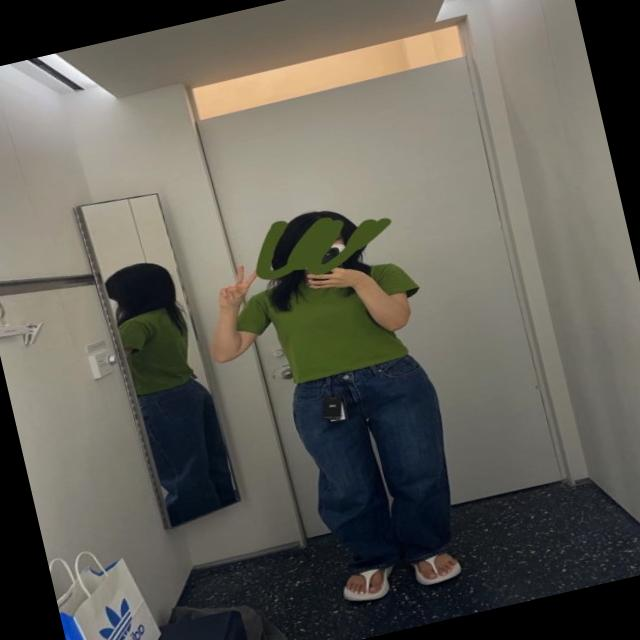denimpants: (284, 350, 470, 578)
shortsleeve: (230, 245, 432, 396)
